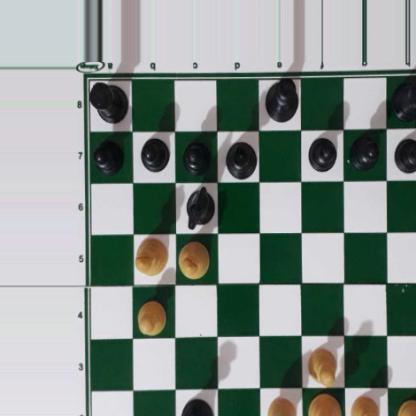black-bishop: (224, 141, 258, 182)
black-king: (263, 77, 299, 123)
black-knight: (183, 185, 215, 230)
black-pawn: (350, 134, 380, 170), (93, 138, 123, 172), (182, 138, 211, 173), (140, 136, 168, 172), (308, 135, 336, 171), (394, 135, 416, 173)
black-queen: (178, 396, 214, 416)
black-rook: (87, 77, 129, 123), (392, 76, 416, 120)
white-bishop: (135, 237, 169, 276), (178, 241, 210, 281)
white-king: (308, 394, 343, 416)
white-knight: (266, 397, 304, 416)
white-pawn: (306, 344, 337, 385), (136, 299, 166, 335), (350, 395, 381, 416), (397, 398, 416, 416)
